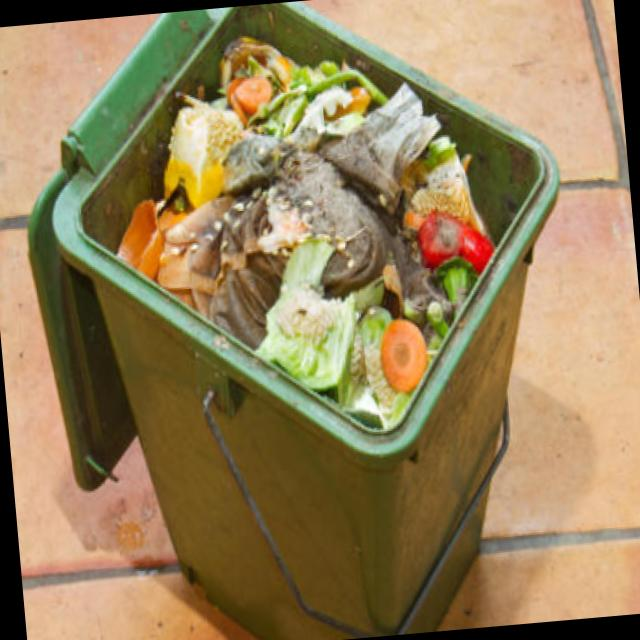paper: (246, 230, 365, 400), (209, 70, 330, 160)
